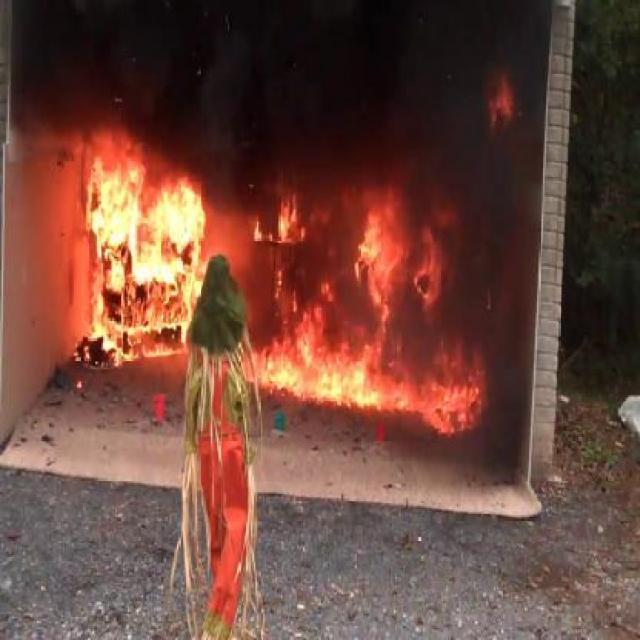fire: (2, 3, 304, 182), (360, 46, 578, 214)
